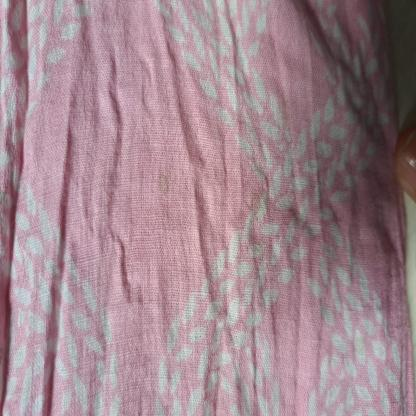spot: (153, 166, 173, 204), (250, 188, 268, 222)
